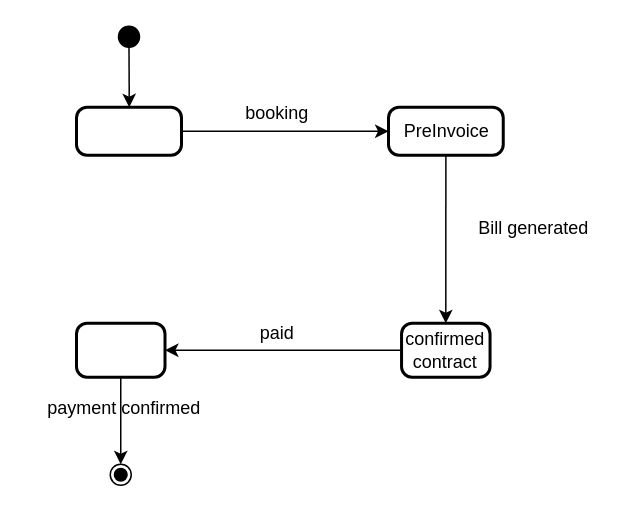
The diagram is 633 pixels wide and 512 high, and some of its shapes have lost their labels. Each missing label, with the box of its shape:
in stock: (74, 105, 182, 156)
invoiced: (74, 321, 166, 378)
